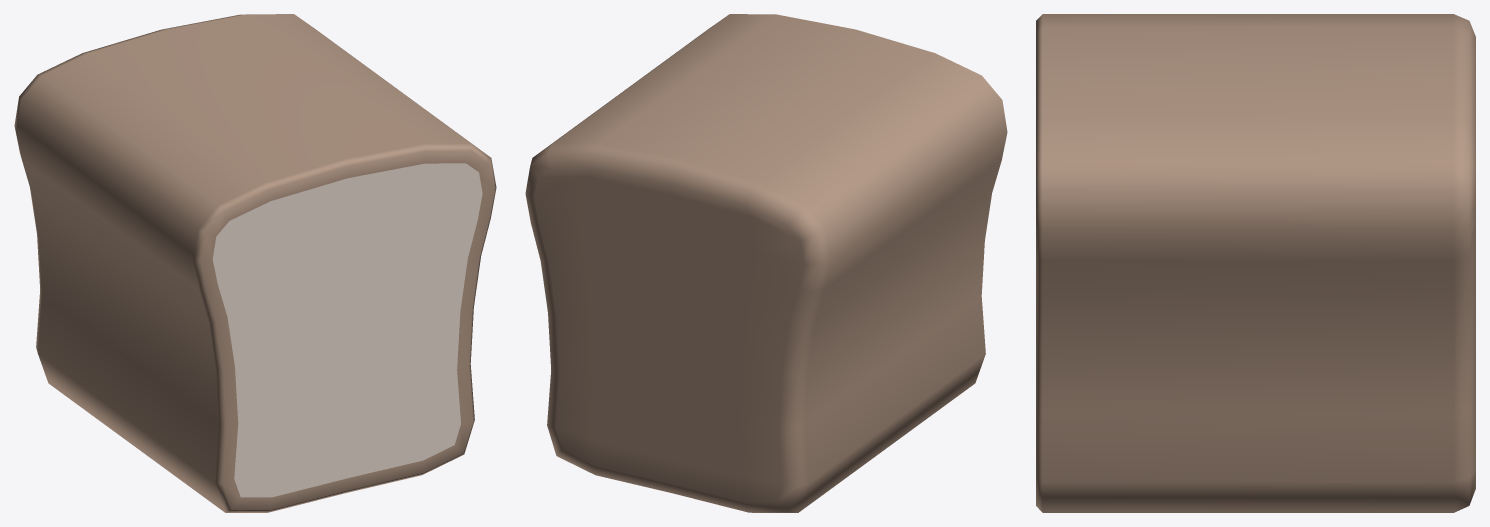
Rendered from Bread_2.glb.
The picture shows the model from 3 angles, left to right: view 1: azimuth 30°, elevation 25°; view 2: azimuth 150°, elevation 25°; view 3: azimuth 270°, elevation 25°; orthographic projection. The views are drawn at different scales.
Visible parts, largest first — view 1: Bread_2; view 2: Bread_2; view 3: Bread_2.
Part boxes in pixels (x1,y1,x2,y2): Bread_2: (14,14,496,512); Bread_2: (525,14,1007,512); Bread_2: (1036,14,1475,512).
Size of the model in its own units: 0.2214 by 0.2337 by 0.2392.
1 material, 1 textured.
